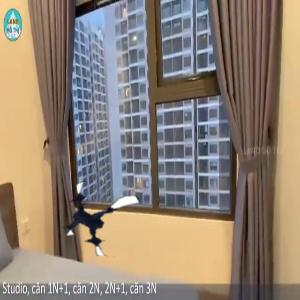drone: (59, 175, 146, 262)
